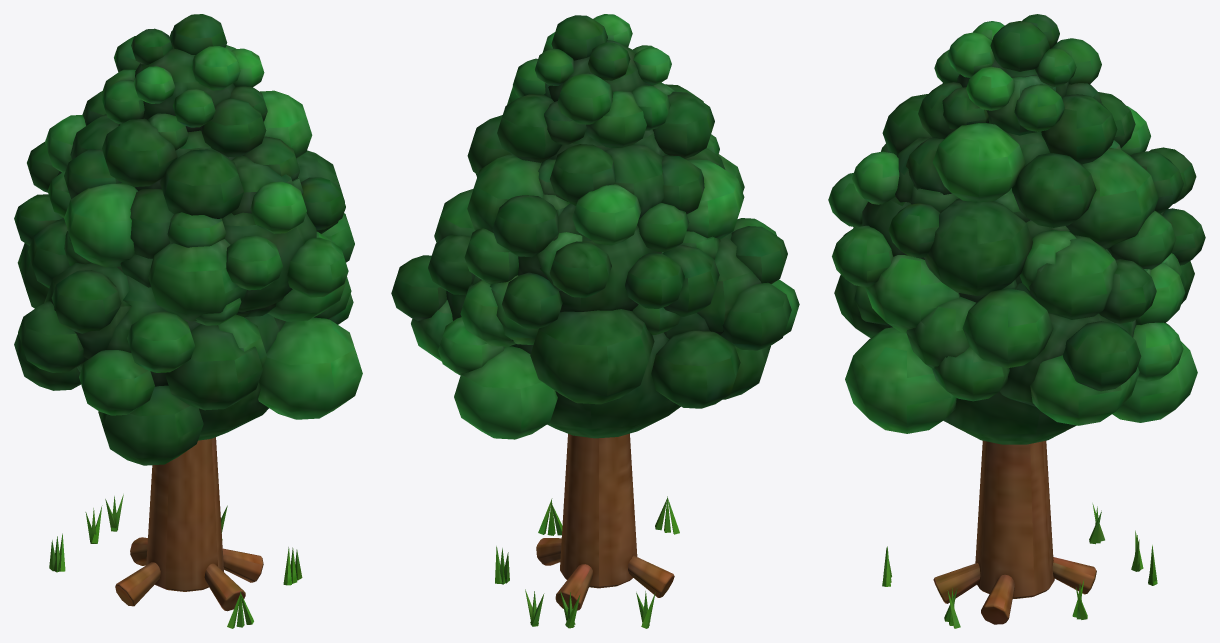
File: macadamia_tree.glb
3 renders of one model, left to right at view 1: azimuth 30°, elevation 25°; view 2: azimuth 150°, elevation 25°; view 3: azimuth 270°, elevation 25°, orthographic. The views are drawn at different scales.
Parts seen in each view (by area): view 1: crown, macadamia_tree; view 2: crown, macadamia_tree; view 3: crown, macadamia_tree.
Boxes of the visible parts, <box> form: crown: <box>14,14,362,465</box>; macadamia_tree: <box>49,437,302,628</box>; crown: <box>391,14,799,439</box>; macadamia_tree: <box>495,433,679,628</box>; crown: <box>828,14,1205,444</box>; macadamia_tree: <box>882,440,1157,628</box>.
Size of the model in its own units: 0.8927 by 1.43 by 0.8414.
Materials: 1 (1 with a texture image).
